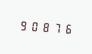eight: (40, 19, 50, 34)
nine: (18, 18, 28, 32)
seven: (51, 20, 61, 35)
six: (62, 21, 72, 35)
zero: (29, 18, 39, 33)
